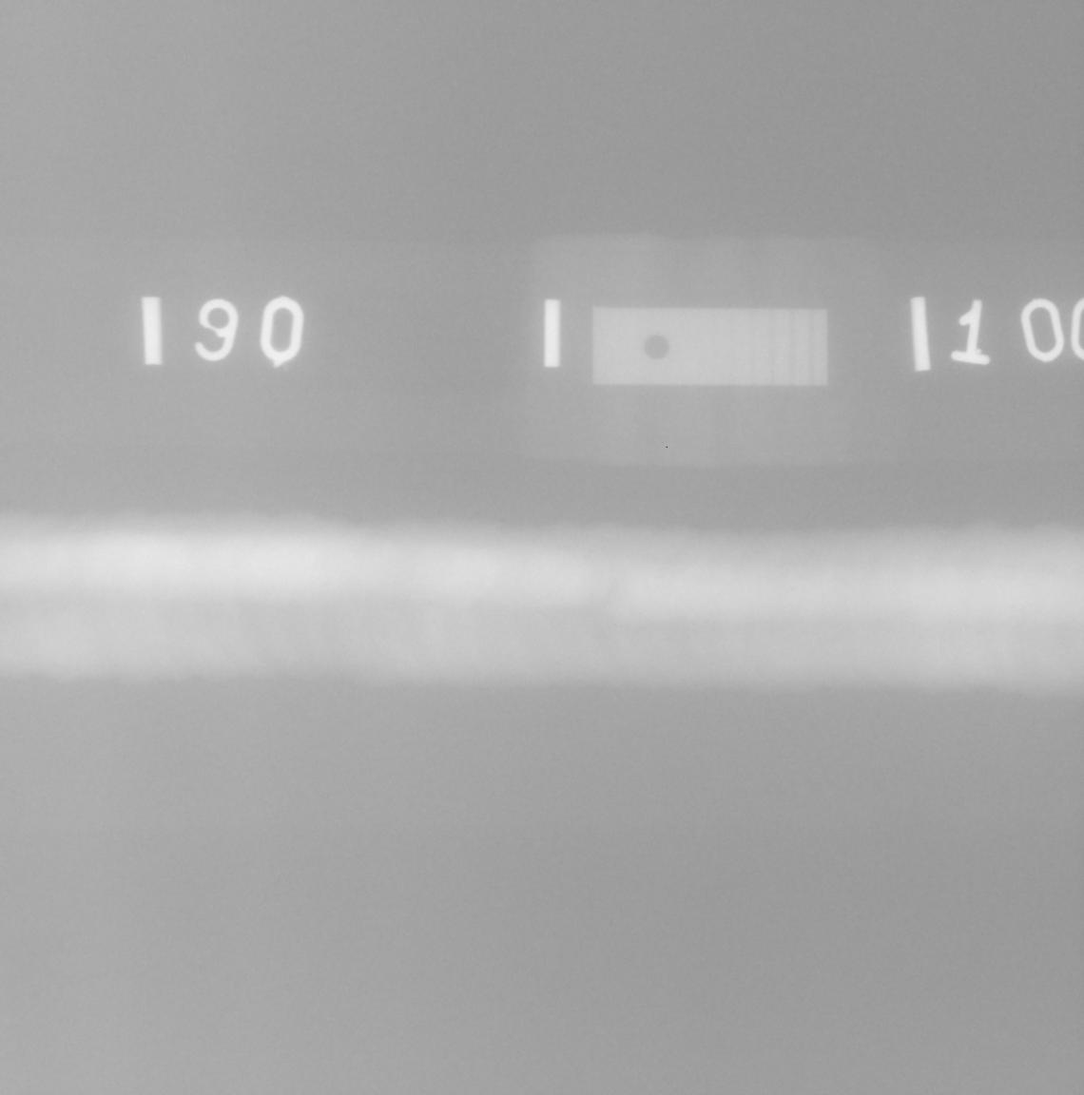Pore/Porosity: (791, 587, 796, 591)
Reference Standard 1: (593, 307, 827, 385)
